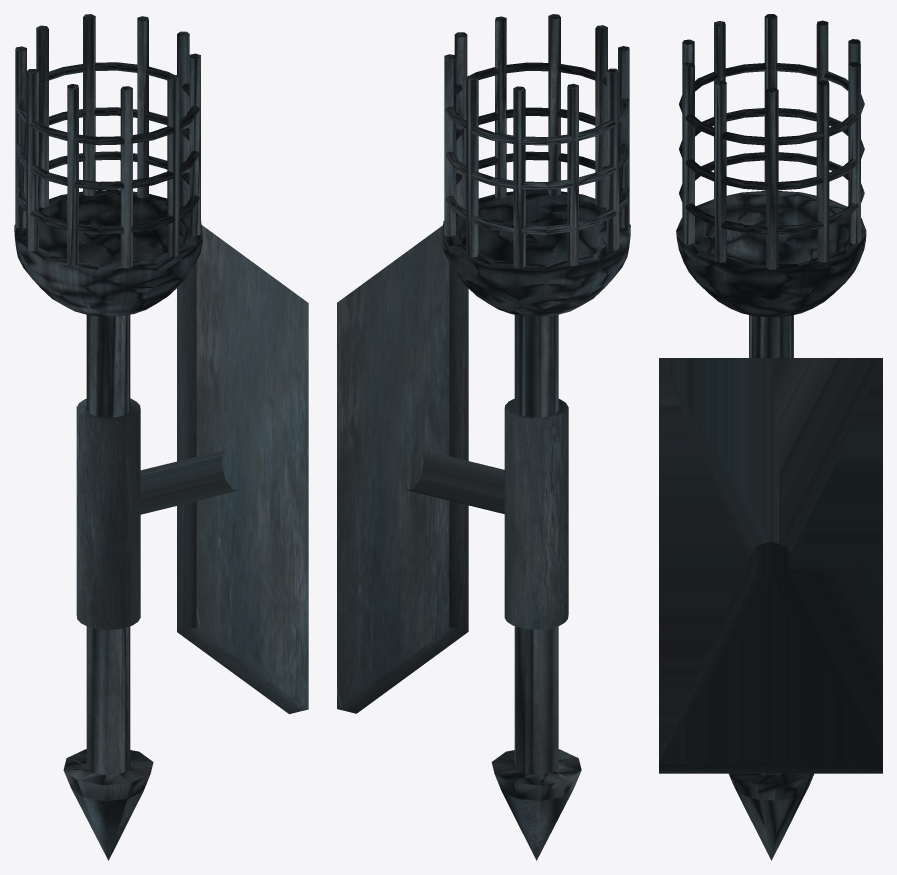
The model's file is Final_dark_Torch 2.fbx.
The picture shows the model from 3 angles, left to right: view 1: azimuth 30°, elevation 25°; view 2: azimuth 150°, elevation 25°; view 3: azimuth 270°, elevation 25°; orthographic projection.
Parts seen in each view (by area): view 1: pCylinder14; view 2: pCylinder14; view 3: pCylinder14.
Boxes of the visible parts, box(x1,y1,x2,y2) form: pCylinder14: box(14, 14, 308, 860); pCylinder14: box(337, 14, 630, 860); pCylinder14: box(659, 14, 882, 860).
Size of the model in its own units: 0.0877 by 0.3002 by 0.0755.
